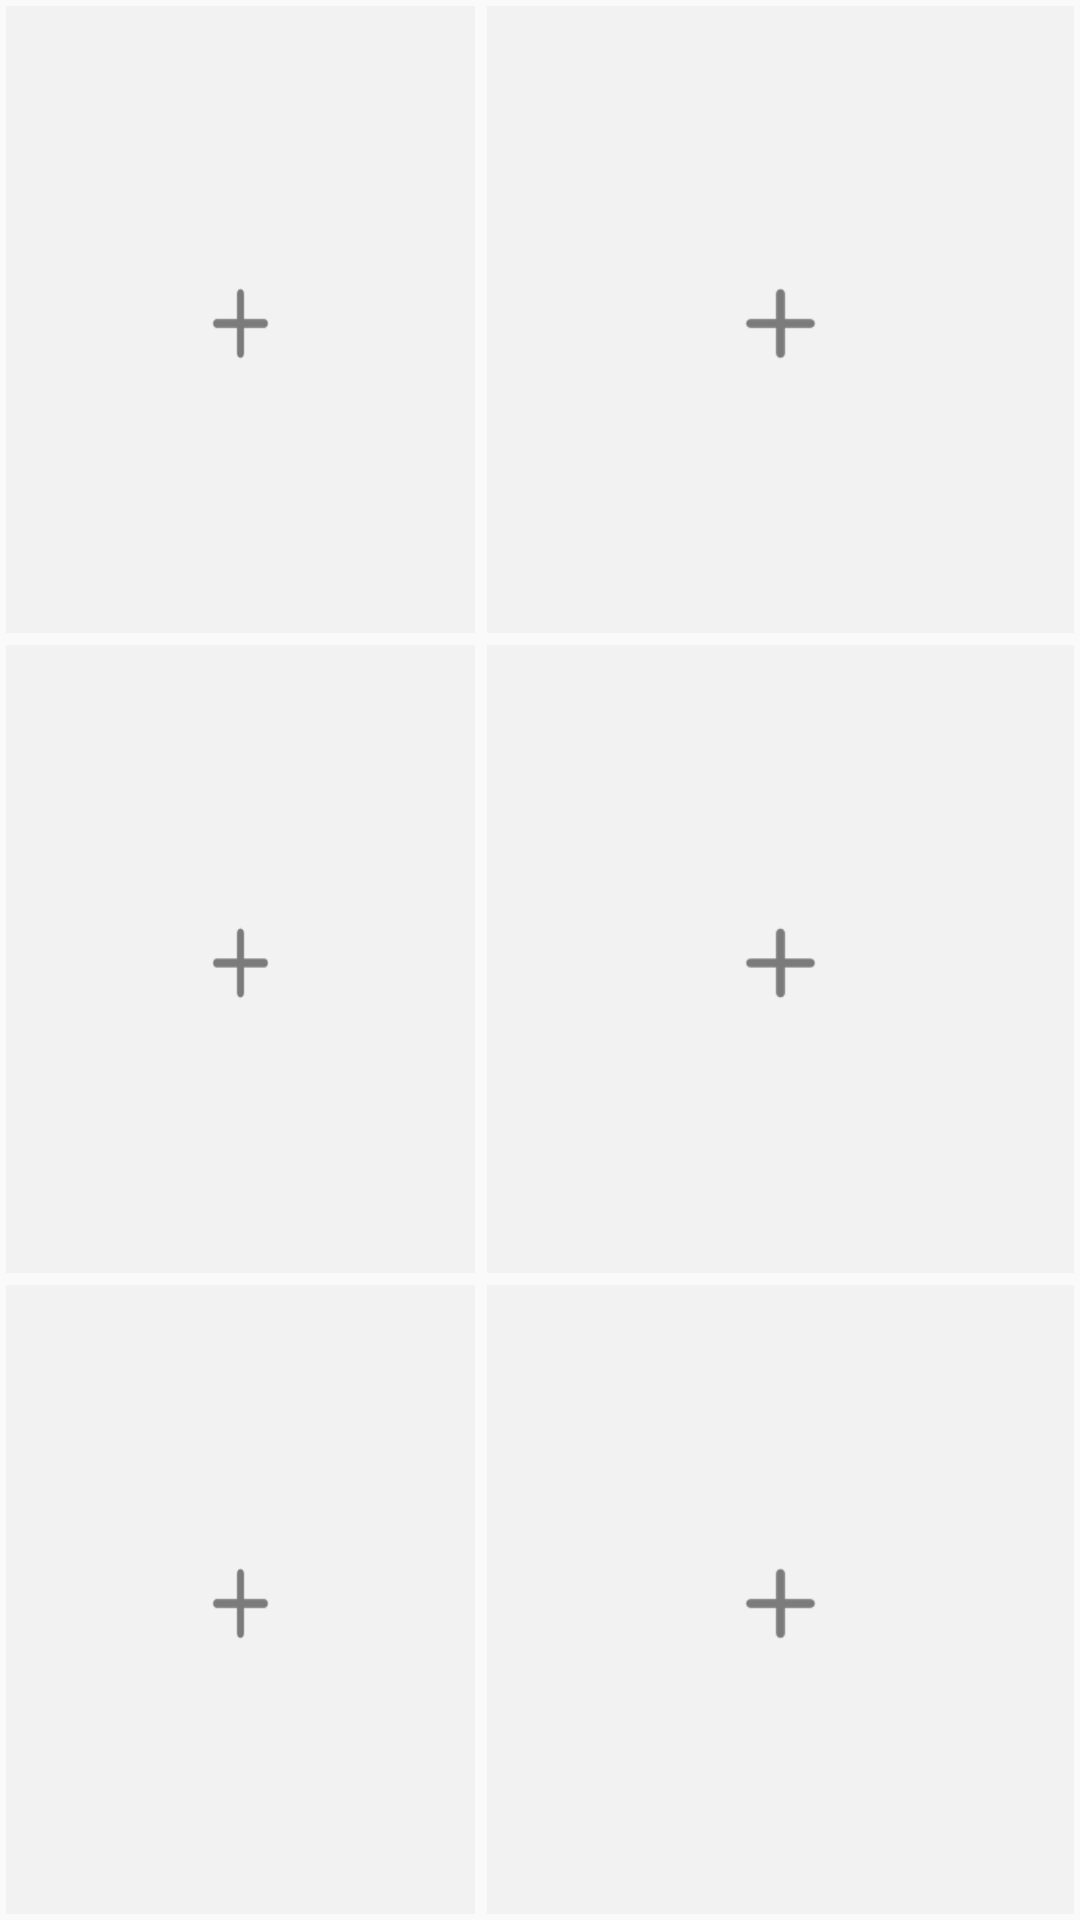

Locate icon controls on the screen. Image size 1080 × 1920, boxes as (x1, y1, x2, y2).
plus photo: (213, 289, 268, 358), (746, 289, 815, 358), (213, 928, 268, 998), (746, 928, 815, 998), (213, 1569, 268, 1638), (746, 1569, 815, 1638)
